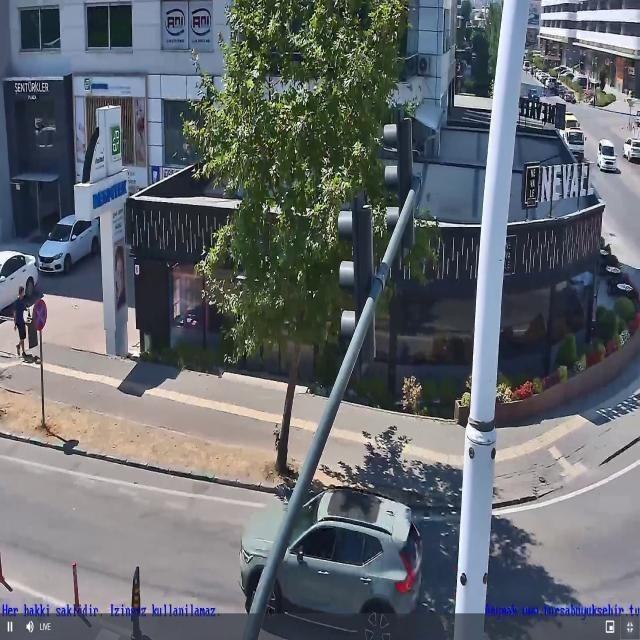Car: (239, 487, 425, 640)
